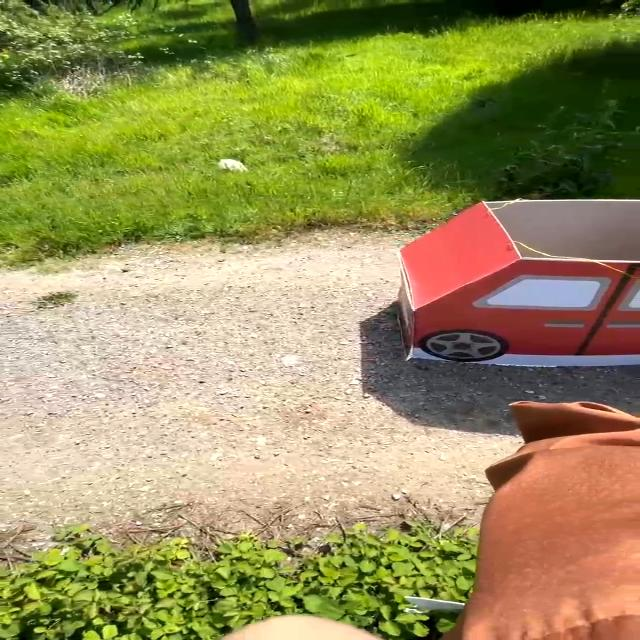red_car: (354, 192, 640, 380)
